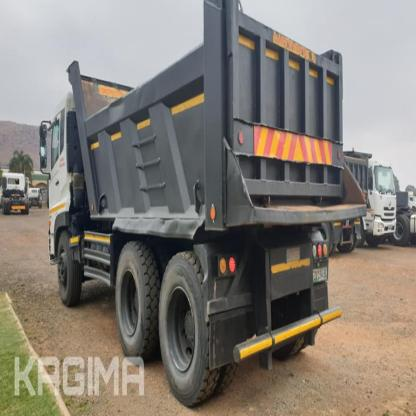dump_truck: (34, 3, 348, 409), (367, 145, 403, 255), (2, 161, 32, 221)
